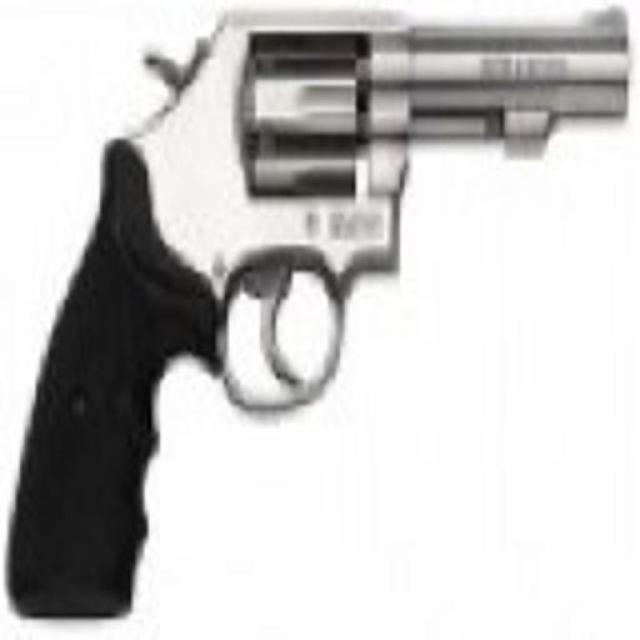pistol: (7, 5, 631, 612)
